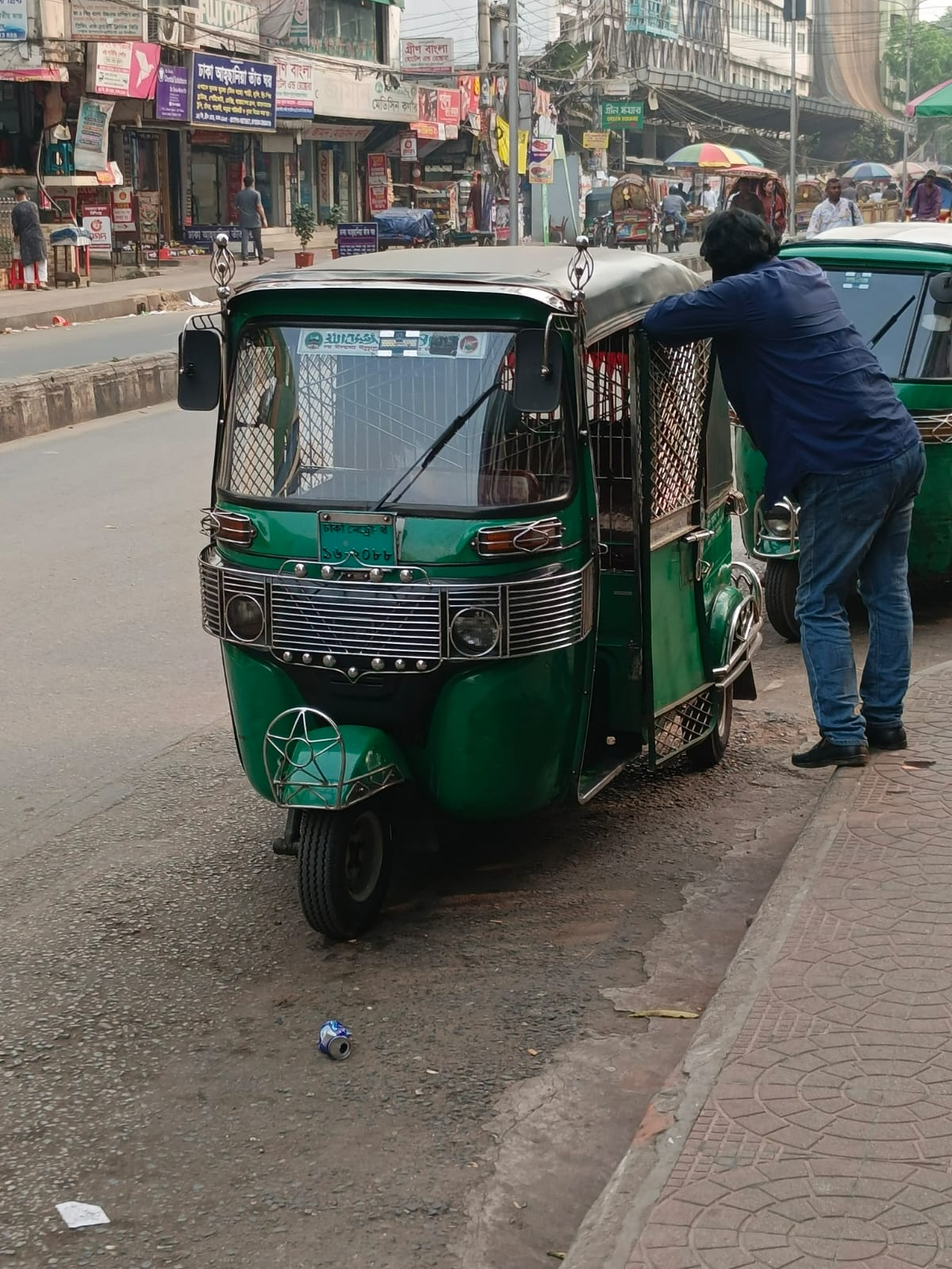cng: (175, 223, 783, 951)
